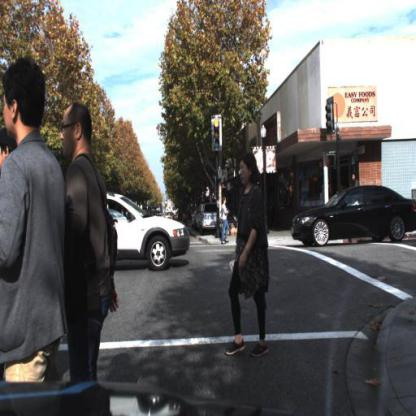car: (289, 183, 416, 255), (106, 180, 194, 276)
pedestrian: (60, 102, 120, 413), (221, 151, 272, 367), (345, 170, 365, 185)
trafficLight: (210, 111, 225, 153), (1, 129, 15, 160)
